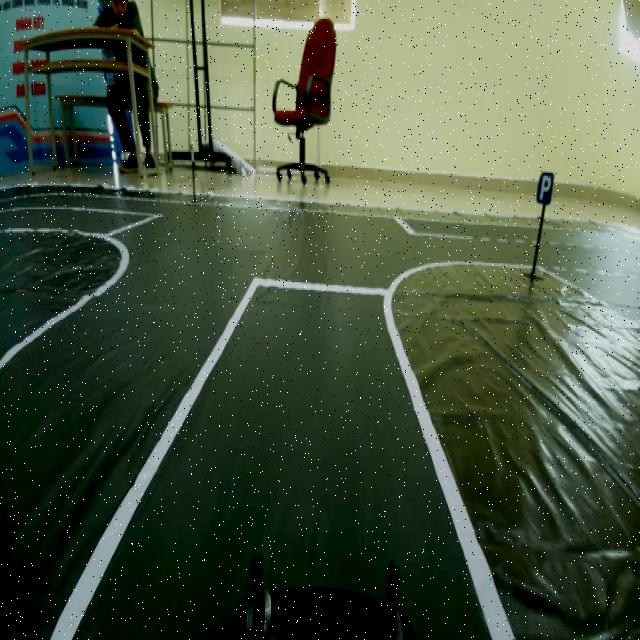parking: (535, 166, 556, 209)
